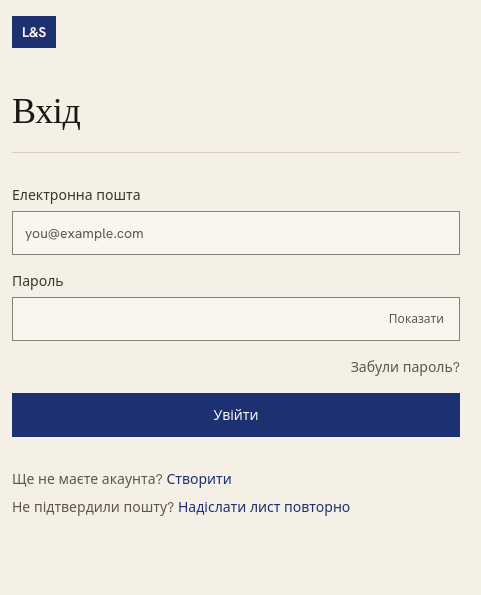
it: LoginPage › shows the server’s refusal once, not twice
Type "learner@example.com" into the field labelled "Електронна пошта" at [236, 233], box [12, 211, 460, 255]
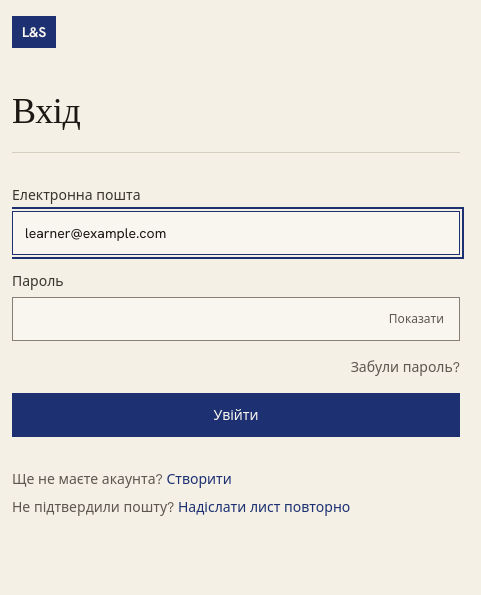
Type "ValidPass1!" into the password field labelled "Пароль" at [236, 319], box [12, 297, 460, 341]
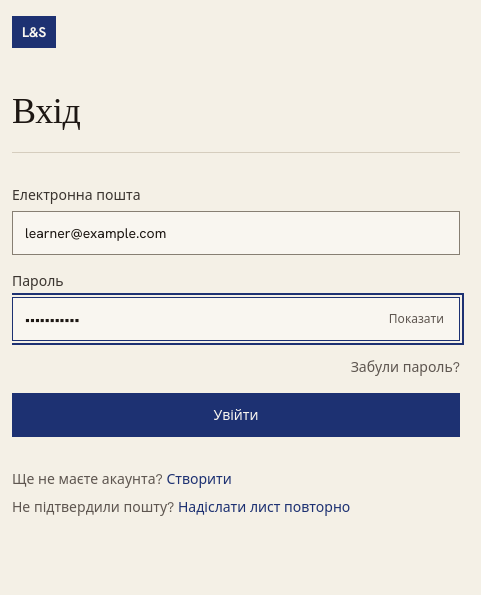
Click the button "Увійти" at [236, 415], box [12, 393, 460, 437]
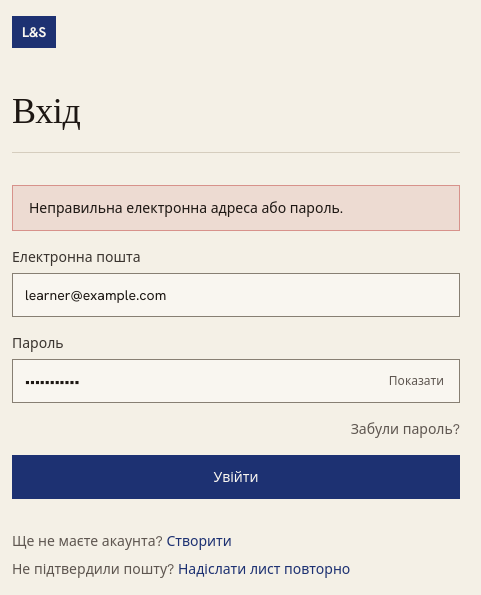
Check: the text "Неправильна електронна адреса або пароль." is shown once, box [12, 185, 460, 231]
